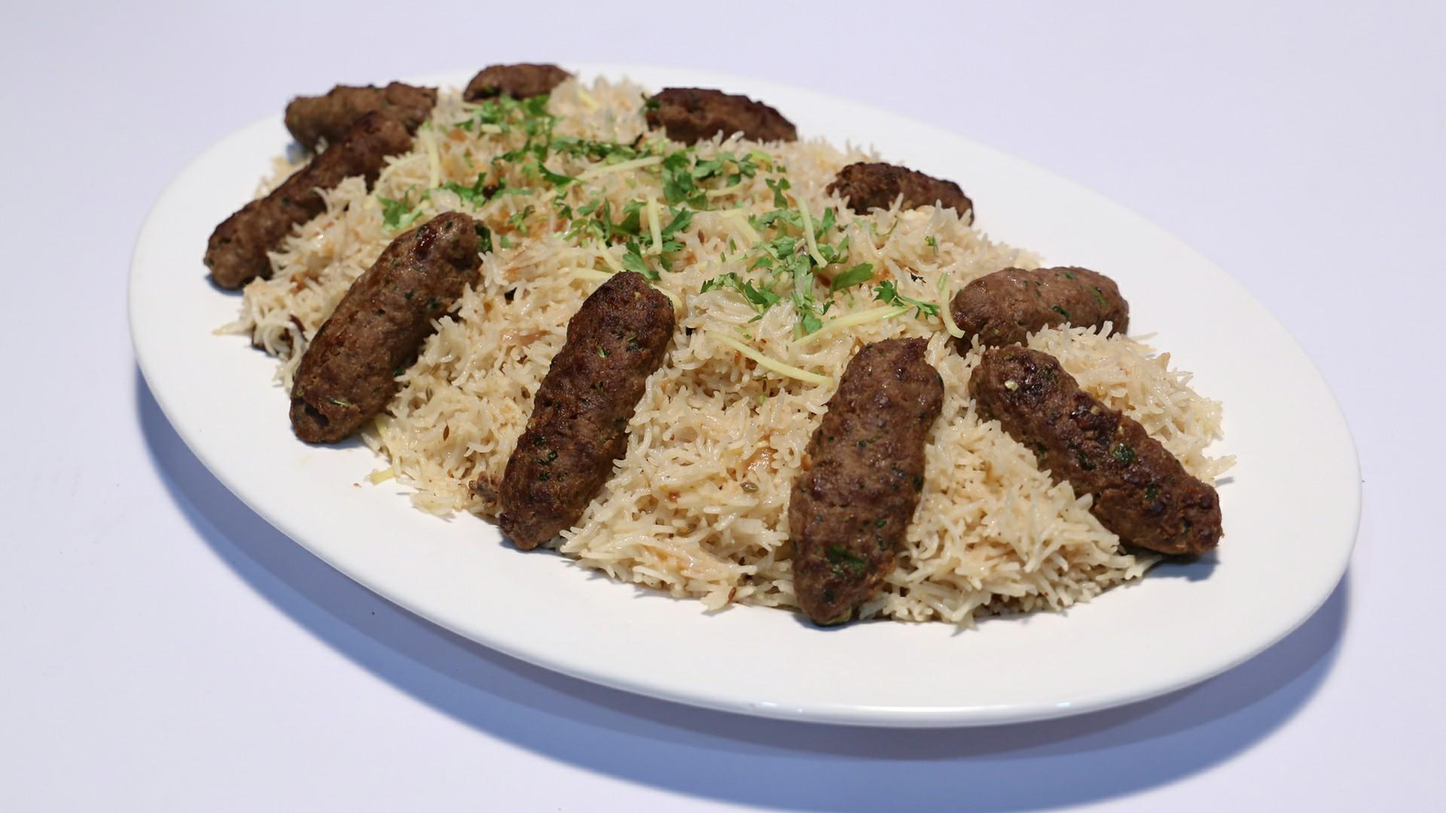Kebab: (965, 347, 1221, 556), (497, 271, 676, 553), (789, 337, 942, 630), (291, 211, 478, 447), (203, 104, 419, 289), (946, 268, 1129, 348), (281, 79, 437, 151), (829, 159, 978, 232), (642, 86, 799, 150), (463, 61, 576, 109)
